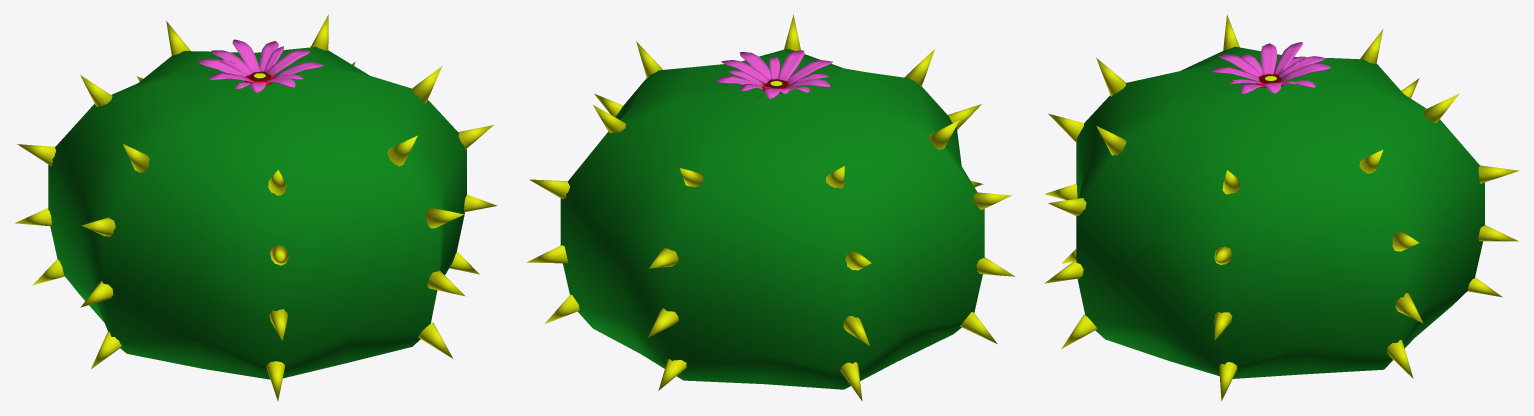
The model's file is cactussmall2.fbx.
The picture shows the model from 3 angles, left to right: view 1: azimuth 30°, elevation 25°; view 2: azimuth 150°, elevation 25°; view 3: azimuth 270°, elevation 25°; orthographic projection.
Parts seen in each view (by area): view 1: Sphere, Sphere.001; view 2: Sphere, Sphere.001, Sphere.005; view 3: Sphere, Sphere.001, Sphere.005.
Part boxes in pixels (left/top/right/bottom): Sphere: left=15, top=14, right=497, bottom=400; Sphere.001: left=197, top=39, right=323, bottom=92; Sphere: left=526, top=14, right=1014, bottom=401; Sphere.001: left=716, top=50, right=832, bottom=98; Sphere.005: left=647, top=168, right=703, bottom=390; Sphere: left=1044, top=14, right=1484, bottom=401; Sphere.001: left=1210, top=42, right=1330, bottom=94; Sphere.005: left=1424, top=93, right=1519, bottom=297.
Size of the model in its own units: 228 by 128 by 226.
